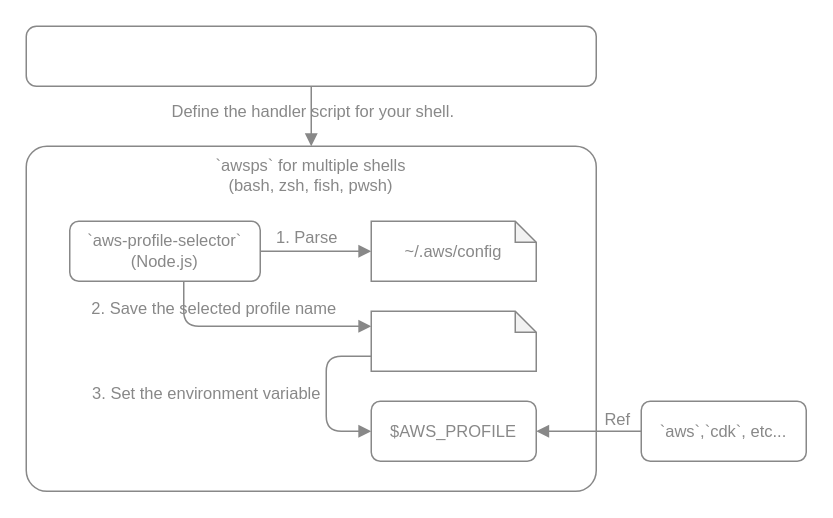
The diagram is 833 pixels wide and 518 high, and some of its shapes have lost their labels. Here are the shapes that lost their labels. From the top down, the centre of each, then its label:
(x=310, y=55): `aws-profile-selector-init --shell <shell_name> --apply` (Node.js)
(x=453, y=340): tmp
